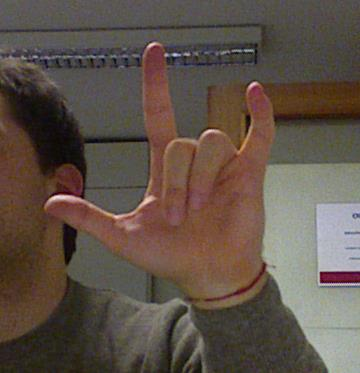back: (42, 38, 283, 291)
